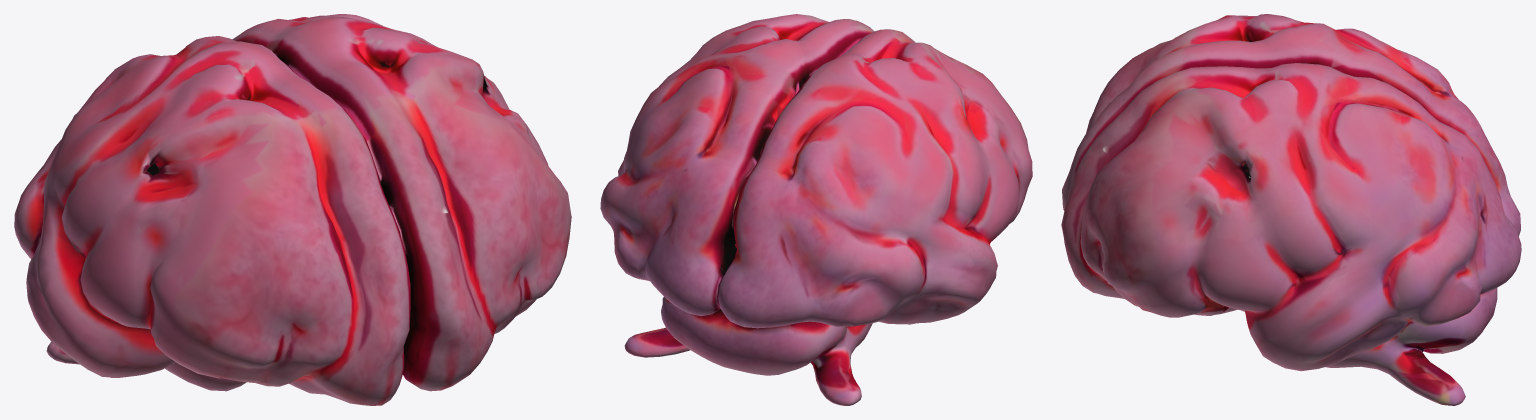
Rendered from cabbage_brain_1121074224_texture.fbx.
3 renders of one model, left to right at view 1: azimuth 30°, elevation 25°; view 2: azimuth 150°, elevation 25°; view 3: azimuth 270°, elevation 25°, orthographic. The views are drawn at different scales.
Parts seen in each view (by area): view 1: input; view 2: input; view 3: input.
Part boxes in pixels (x1,y1,x2,y2): input: (14,14,571,405); input: (600,14,1032,405); input: (1061,14,1521,405).
Size of the model in its own units: 190 by 136 by 191.
Materials: 1 (1 with a texture image).
